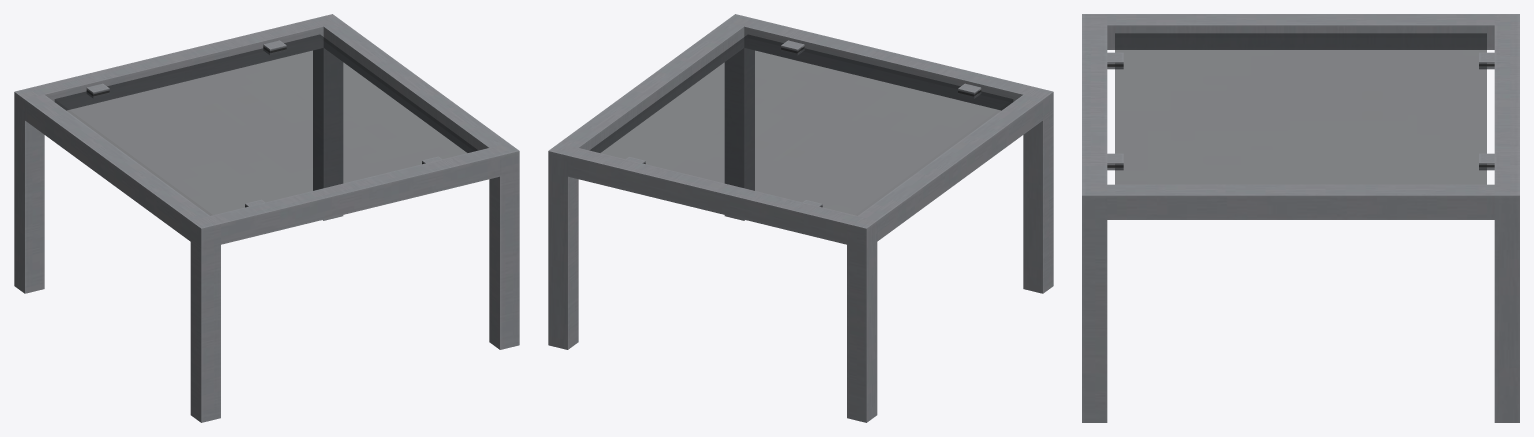
File: SM_Coffee_Table_01.glb
3 views of the same model, side by side, from view 1: azimuth 30°, elevation 25°; view 2: azimuth 150°, elevation 25°; view 3: azimuth 270°, elevation 25° (orthographic). The views are drawn at different scales.
Visible parts, largest first — view 1: SM_Coffee_Table_01; view 2: SM_Coffee_Table_01; view 3: SM_Coffee_Table_01.
Part boxes in pixels (<box>): SM_Coffee_Table_01: <box>14,14,519,422</box>; SM_Coffee_Table_01: <box>548,14,1053,422</box>; SM_Coffee_Table_01: <box>1082,14,1519,422</box>.
Size of the model in its own units: 0.8559 by 0.499 by 0.8714.
Materials: 2 (2 with a texture image).
